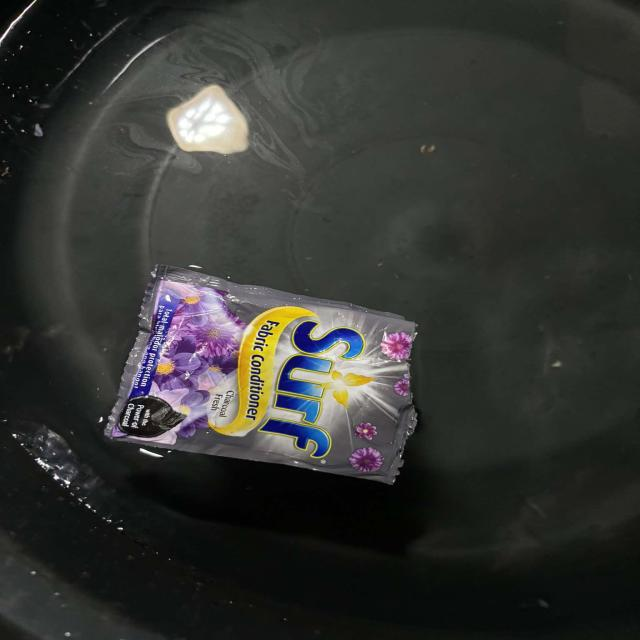Plastic Wrapper: (83, 252, 456, 496)
